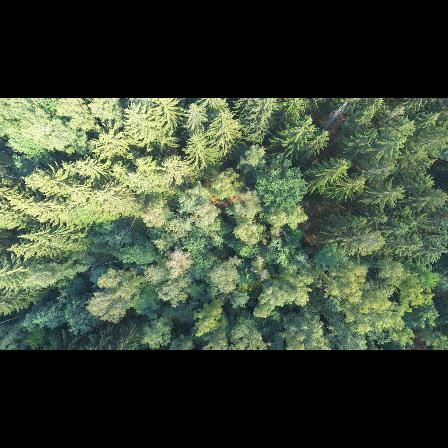Dead: (319, 99, 350, 135)
